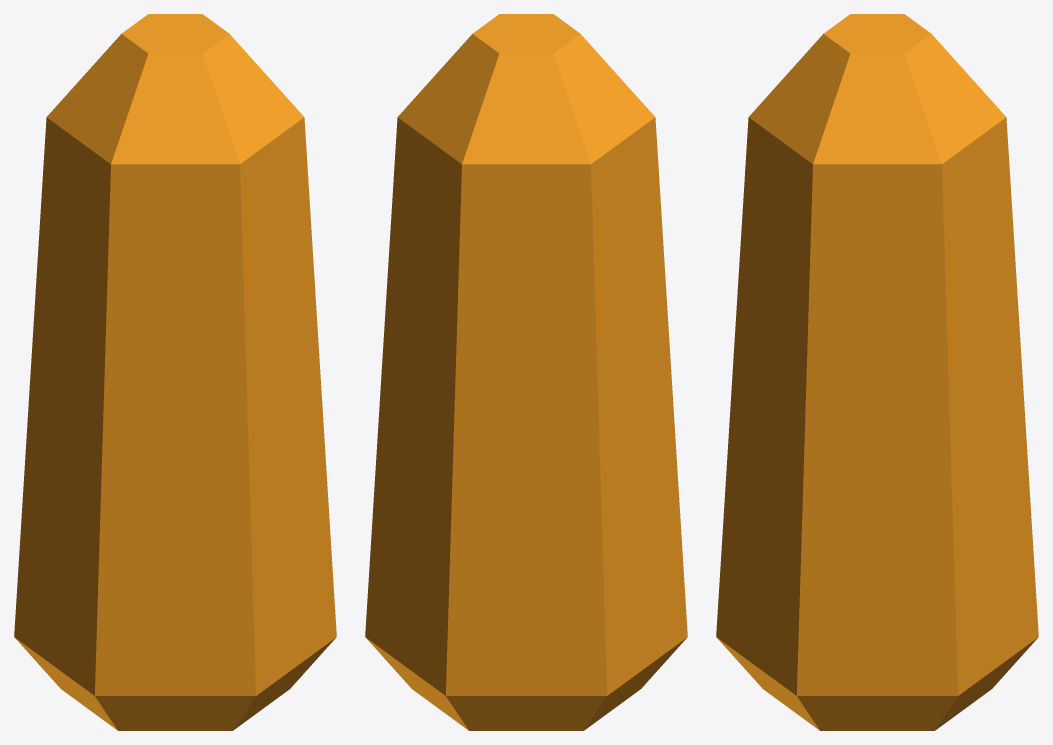
File: Corn_4.fbx
3 views of the same model, side by side, from view 1: azimuth 30°, elevation 25°; view 2: azimuth 150°, elevation 25°; view 3: azimuth 270°, elevation 25° (orthographic).
Parts seen in each view (by area): view 1: Corn_4; view 2: Corn_4; view 3: Corn_4.
Part boxes in pixels (<box>): Corn_4: <box>14,14,336,730</box>; Corn_4: <box>365,14,687,730</box>; Corn_4: <box>716,14,1038,730</box>.
Bounding box in the file's own units: 13.8 × 35.71 × 15.94.
